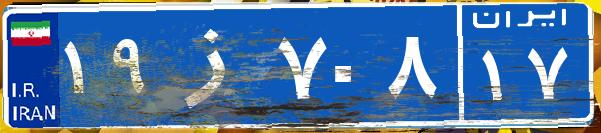0: (330, 28, 385, 110)
1: (57, 26, 110, 107), (475, 38, 525, 113)
7: (273, 28, 330, 110), (525, 38, 570, 115)
8: (385, 28, 445, 110)
9: (110, 28, 158, 105)
ز: (158, 15, 273, 115)
